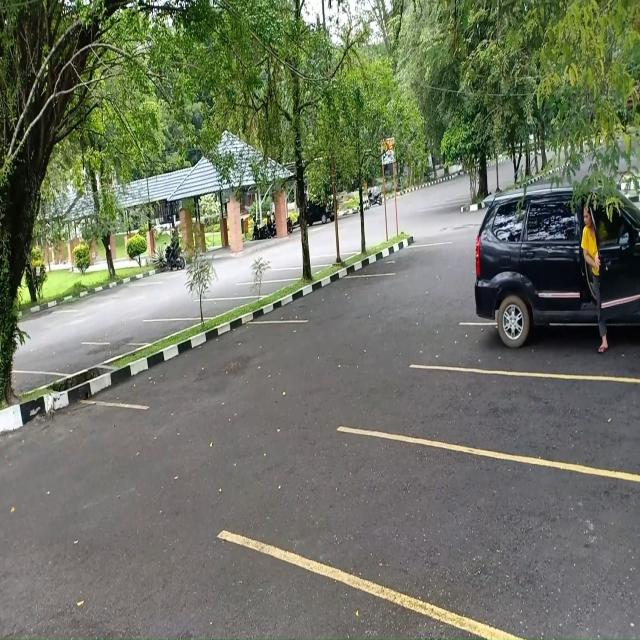empty: (341, 454, 640, 630), (432, 372, 640, 475), (181, 322, 295, 402), (306, 276, 376, 322), (94, 318, 175, 345), (179, 297, 235, 320), (237, 280, 285, 298)
occupied: (466, 245, 640, 382)
